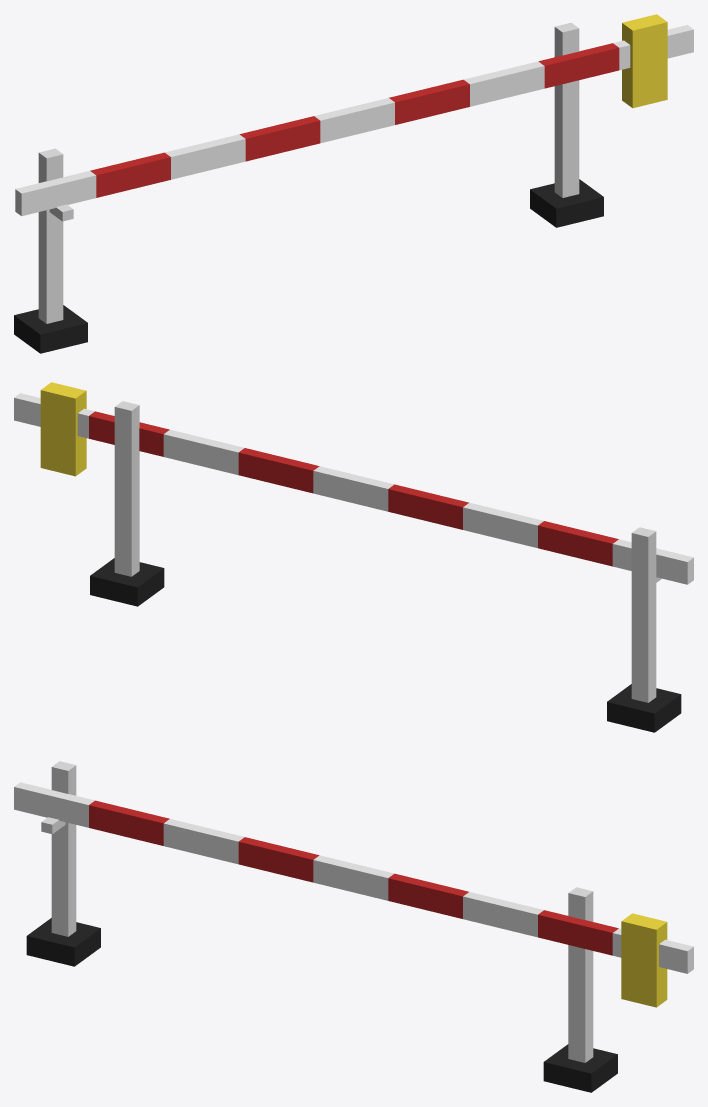
The model's file is Barrier.fbx.
3 views of the same model, one above another, from view 1: azimuth 30°, elevation 25°; view 2: azimuth 150°, elevation 25°; view 3: azimuth 330°, elevation 25° (orthographic).
Parts seen in each view (by area): view 1: pole, barrier; view 2: pole, barrier; view 3: pole, barrier.
Part boxes in pixels (x1,y1,x2,y2): pole: [15, 14, 693, 216]; barrier: [14, 22, 603, 353]; pole: [14, 382, 693, 584]; barrier: [90, 401, 681, 732]; pole: [14, 782, 693, 1007]; barrier: [26, 761, 617, 1092].
Size of the model in its own units: 468 by 123 by 36.42.
